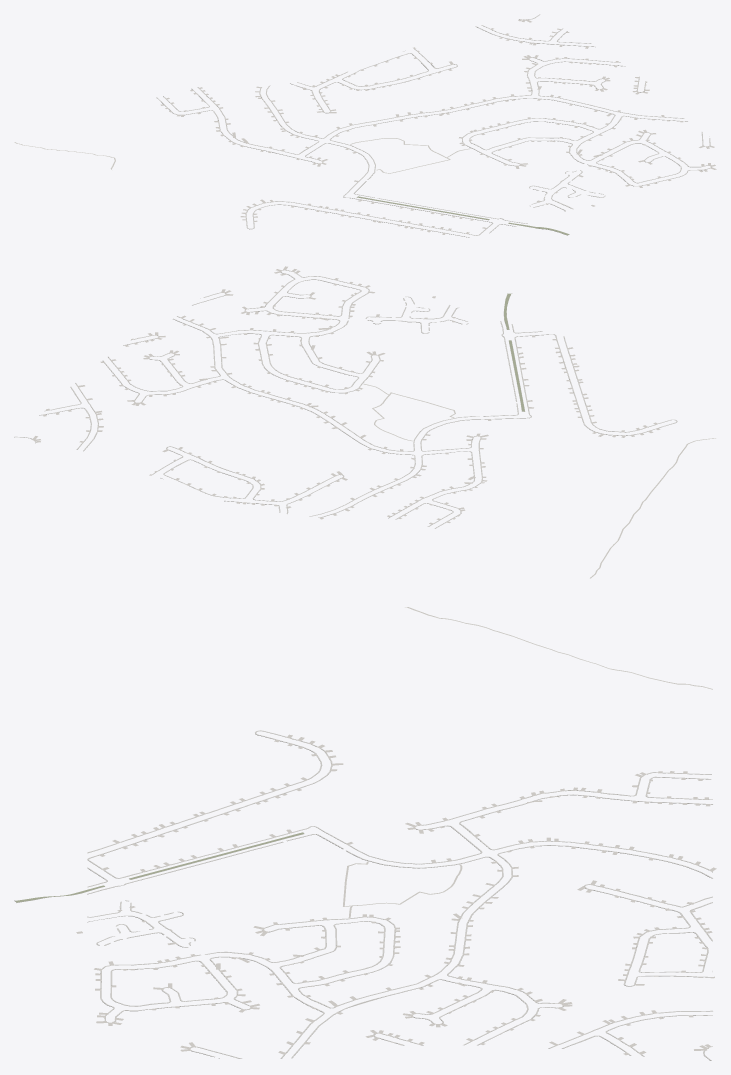
The model's file is ground_r7_c6.glb.
3 views of the same model, one above another, from view 1: azimuth 30°, elevation 25°; view 2: azimuth 150°, elevation 25°; view 3: azimuth 270°, elevation 25° (orthographic). The views are drawn at different scales.
Visible parts, largest first — view 1: sidewalks, driveways, paths, medians; view 2: sidewalks, driveways, paths; view 3: sidewalks, driveways, paths.
Part boxes in pixels (x1,y1,x2,y2): sidewalks: [156, 14, 711, 237]; driveways: [160, 19, 716, 234]; paths: [14, 138, 471, 173]; medians: [357, 196, 569, 235]; sidewalks: [14, 270, 677, 528]; driveways: [32, 266, 660, 524]; paths: [363, 384, 715, 578]; sidewalks: [87, 730, 712, 1060]; driveways: [76, 734, 716, 1055]; paths: [343, 607, 712, 917].
Bounding box in the file's own units: 1126 × 128 × 885.
